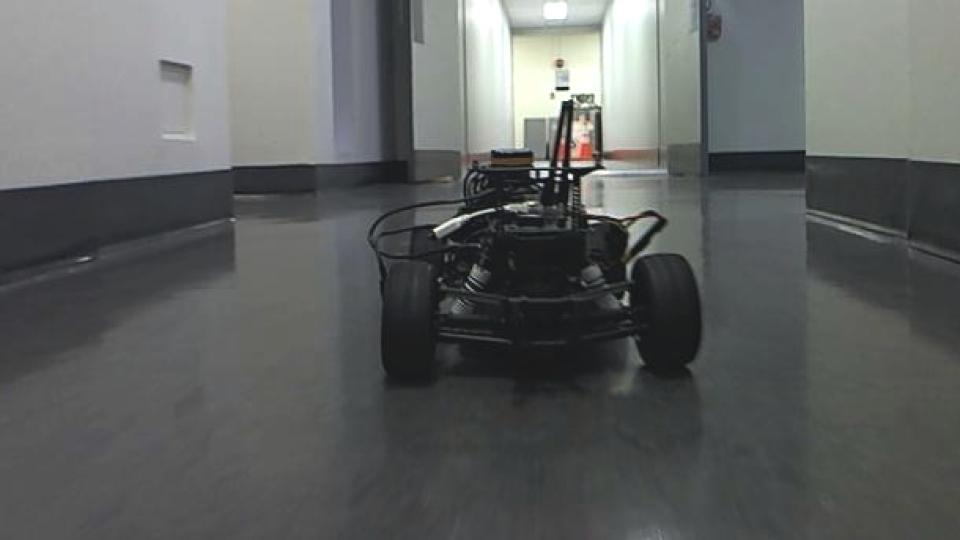car: (365, 152, 707, 384)
